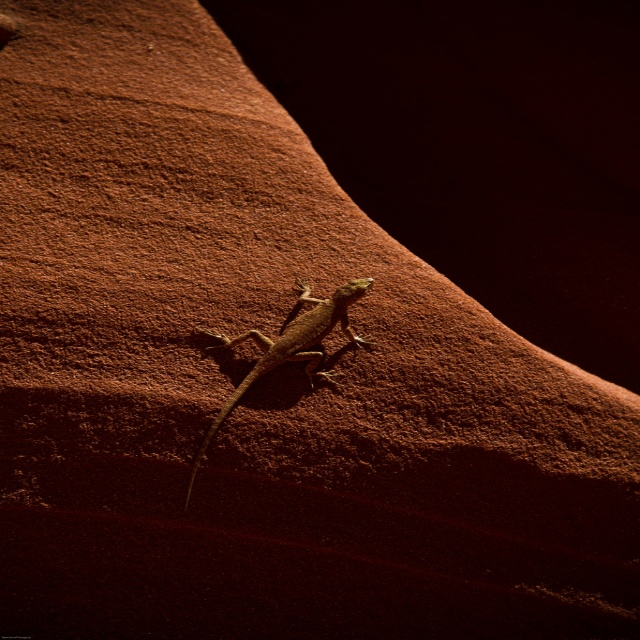Lizard: (188, 274, 385, 483)
